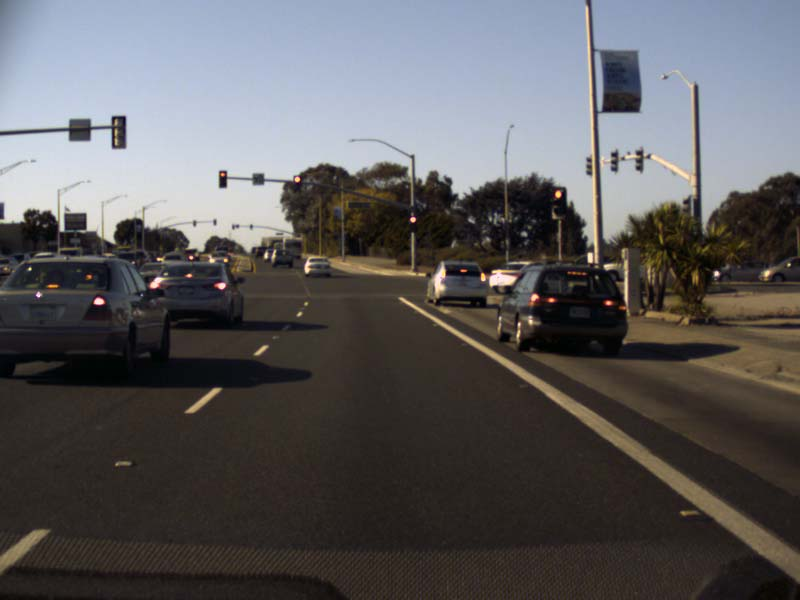Red: (553, 187, 565, 214), (218, 170, 228, 188), (293, 175, 301, 192), (409, 216, 417, 231)
